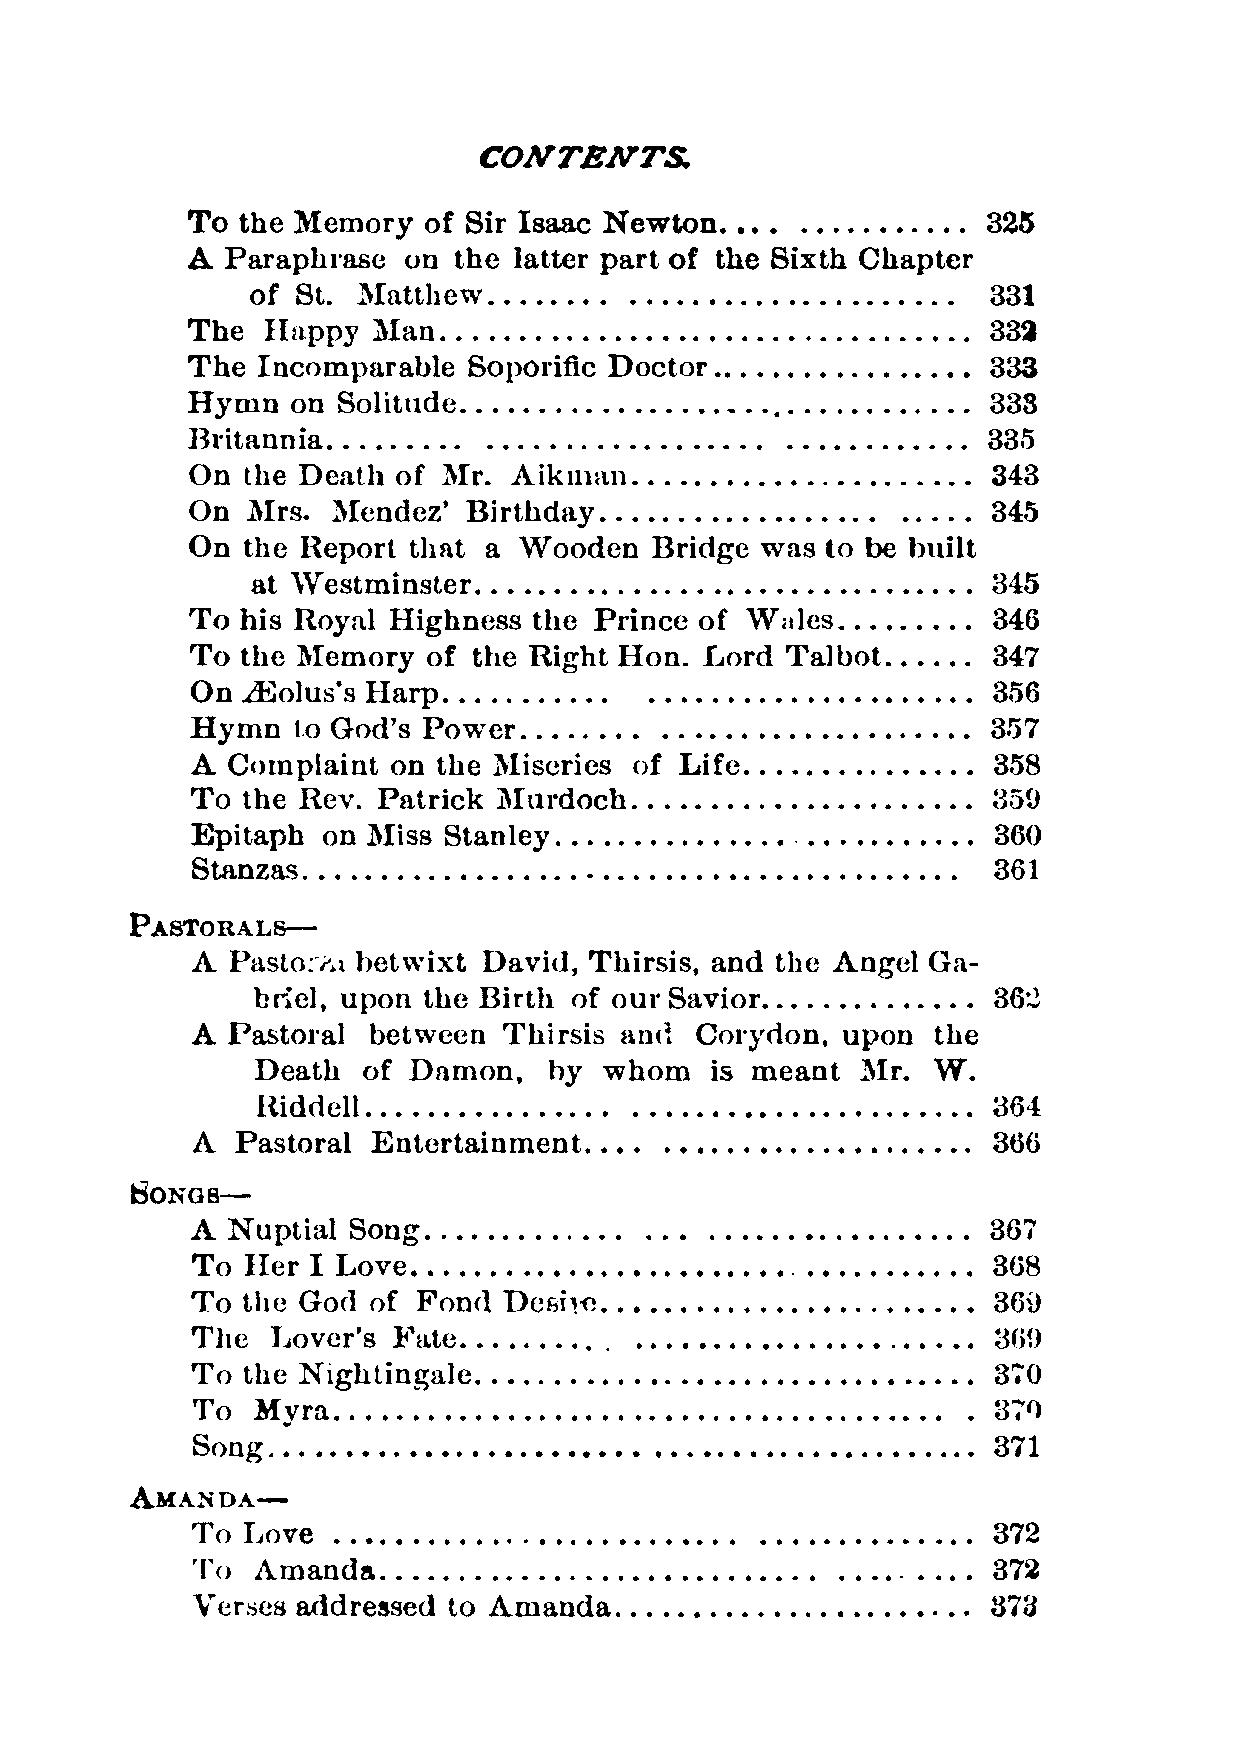TOC_chapter: (193, 1019, 977, 1121), (189, 529, 980, 596), (174, 242, 978, 307), (192, 946, 981, 1011), (170, 187, 723, 235), (185, 637, 888, 672), (184, 599, 837, 633), (187, 749, 747, 780), (184, 352, 713, 382), (187, 459, 629, 494), (187, 816, 552, 855), (185, 785, 627, 816), (191, 1589, 619, 1620), (185, 498, 599, 527), (187, 1354, 472, 1394), (191, 1283, 599, 1311), (187, 710, 517, 743), (189, 1130, 589, 1155), (185, 676, 442, 709), (178, 317, 439, 348), (187, 1319, 458, 1347), (191, 1212, 421, 1244), (184, 1245, 407, 1278), (125, 907, 321, 942), (123, 1475, 299, 1508), (184, 391, 464, 411), (191, 1554, 374, 1584), (187, 1515, 318, 1551), (125, 1177, 259, 1209), (189, 421, 323, 452), (191, 1394, 330, 1420), (189, 855, 303, 886), (184, 1433, 263, 1459)
TOC_pagenumber: (981, 199, 1037, 239), (989, 977, 1043, 1015), (986, 1283, 1043, 1315), (982, 278, 1037, 310), (992, 1358, 1045, 1389), (990, 1249, 1043, 1280), (992, 1588, 1041, 1620), (986, 388, 1040, 417), (989, 1210, 1040, 1241), (992, 1429, 1043, 1460), (990, 603, 1045, 631), (986, 424, 1040, 452), (990, 1551, 1041, 1581), (993, 641, 1041, 672), (989, 495, 1041, 523), (989, 1091, 1041, 1119), (990, 819, 1044, 845), (992, 1396, 1045, 1423), (989, 352, 1040, 380), (992, 1126, 1043, 1154), (993, 565, 1041, 595), (993, 784, 1043, 812), (986, 317, 1037, 344), (993, 679, 1044, 705), (993, 1518, 1041, 1545), (993, 752, 1043, 777), (990, 460, 1041, 484), (992, 1325, 1043, 1347), (990, 717, 1041, 737), (994, 858, 1041, 878)
chapter: (472, 136, 698, 178)
